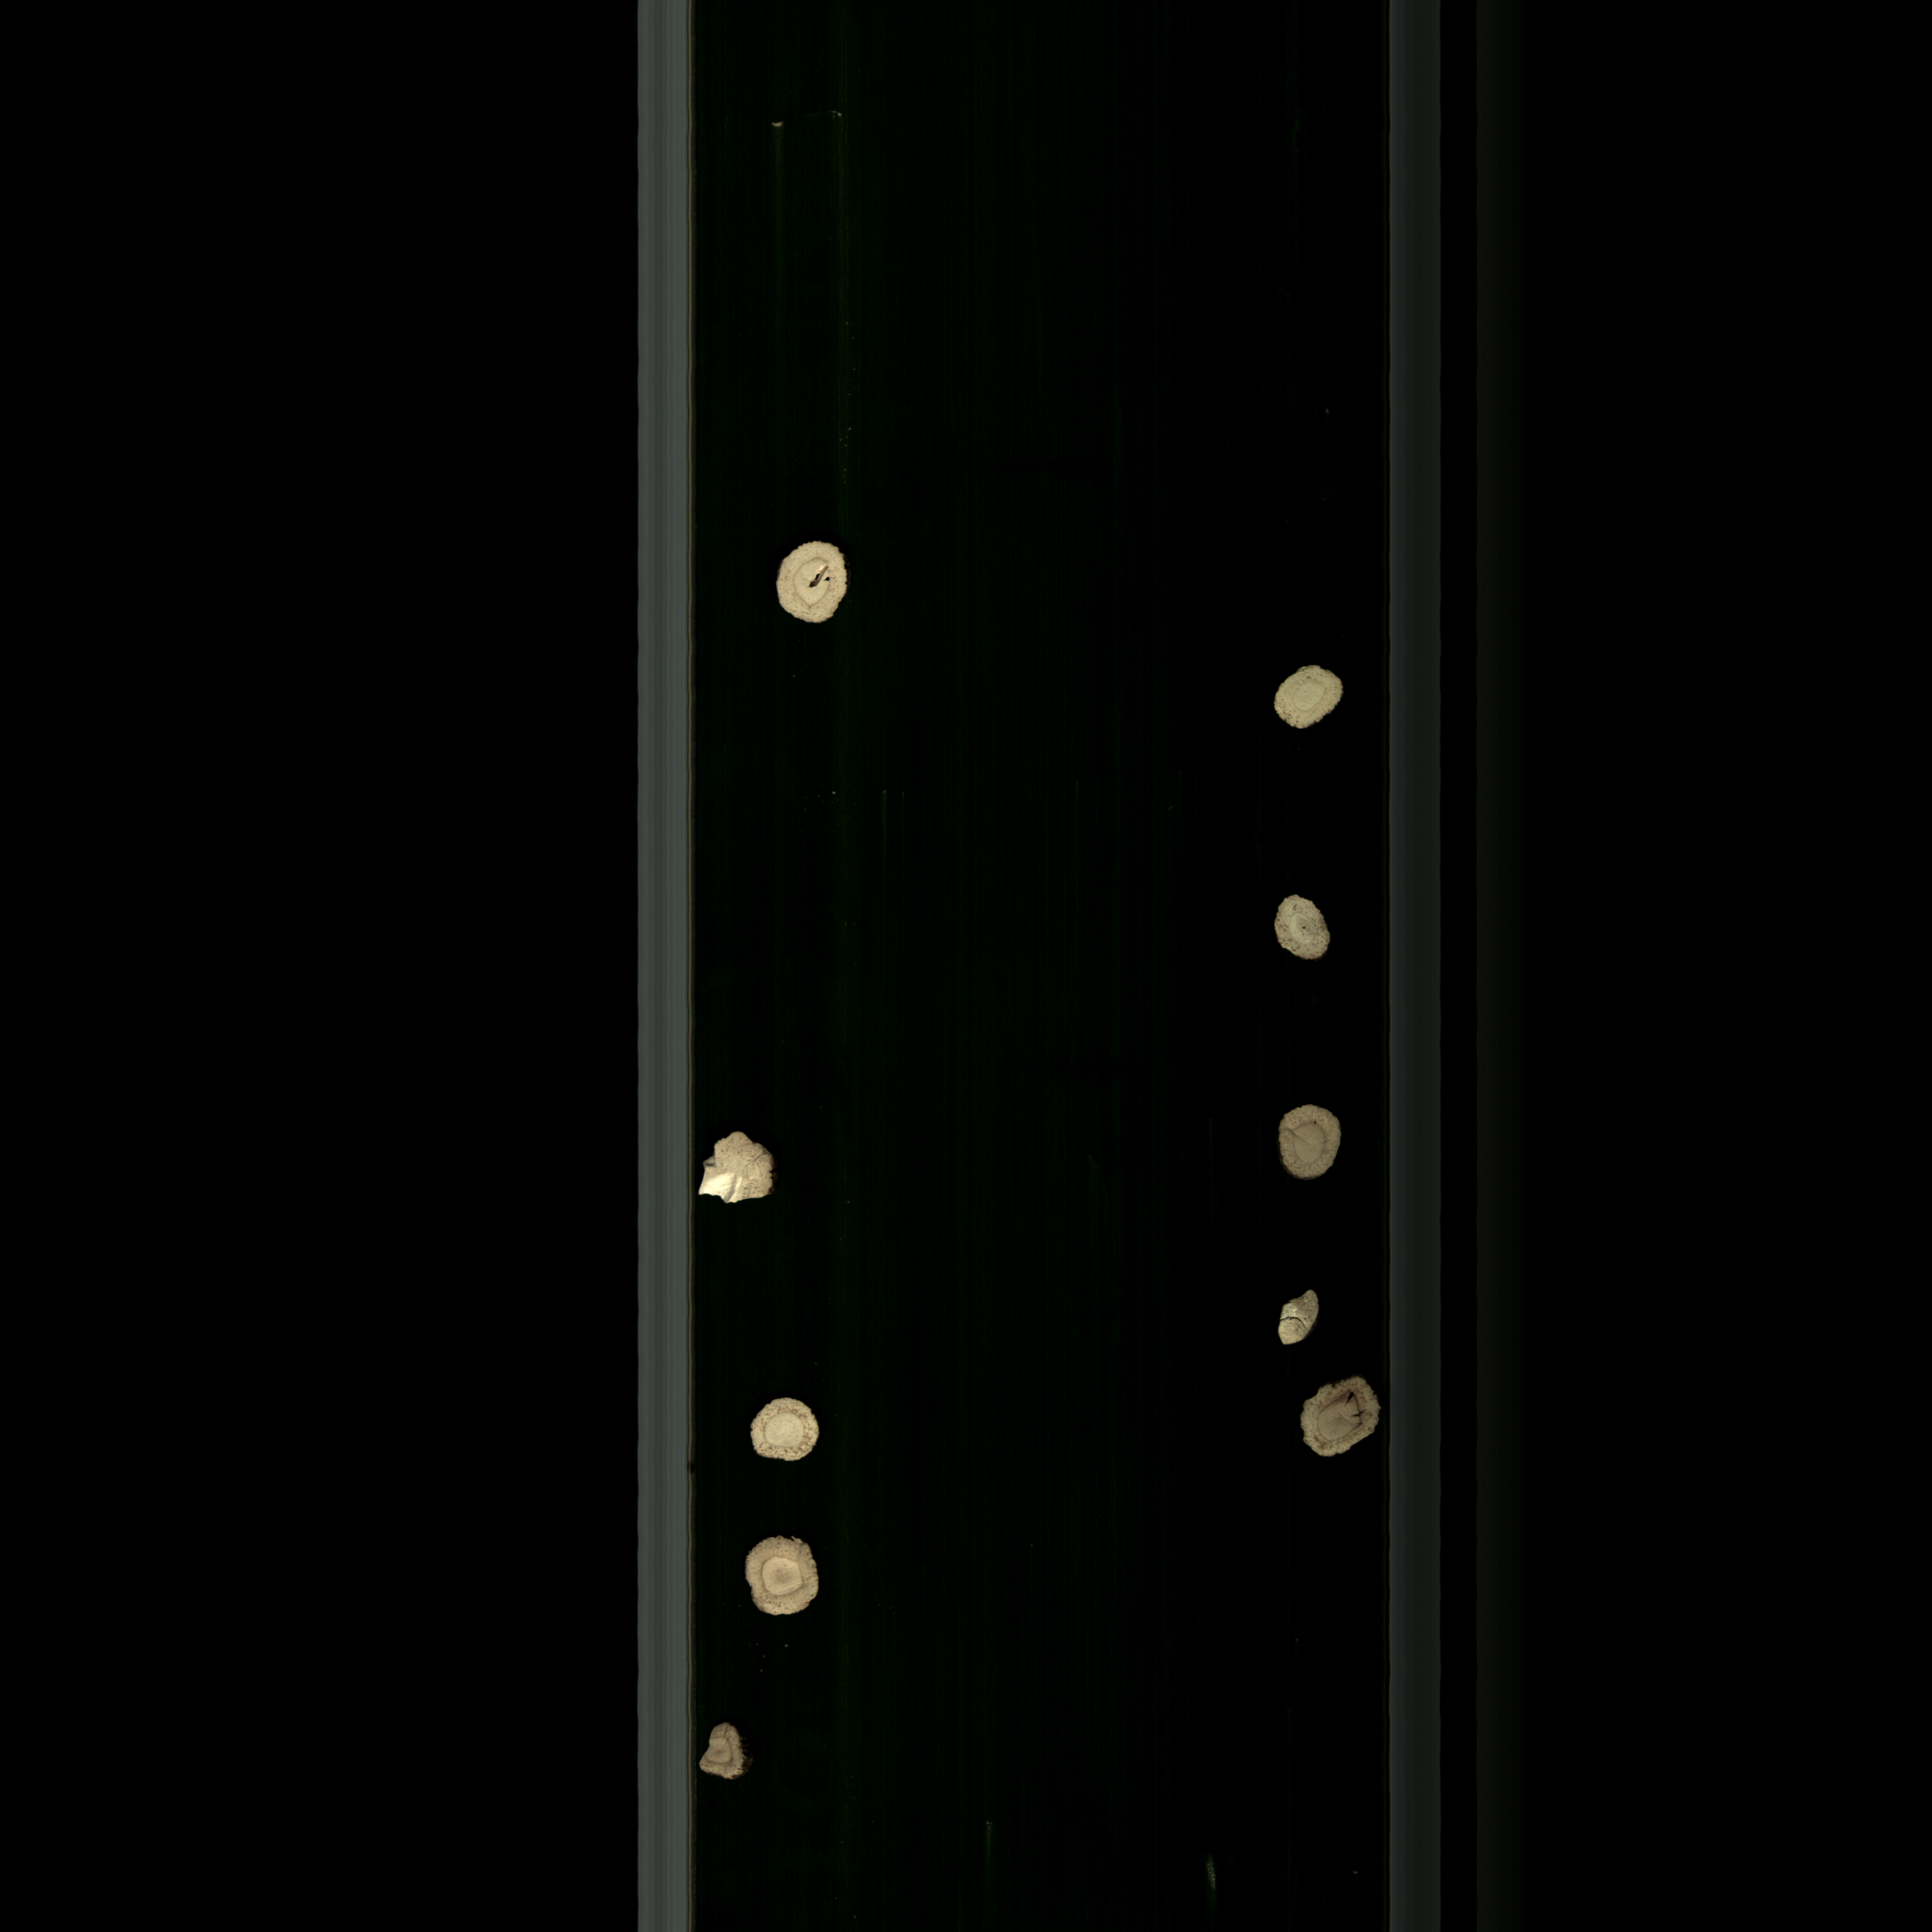debris: (685, 1125, 798, 1214)
dreg: (1260, 1277, 1338, 1361), (697, 1714, 748, 1789)
hole: (754, 529, 878, 646), (1281, 1368, 1384, 1468)
